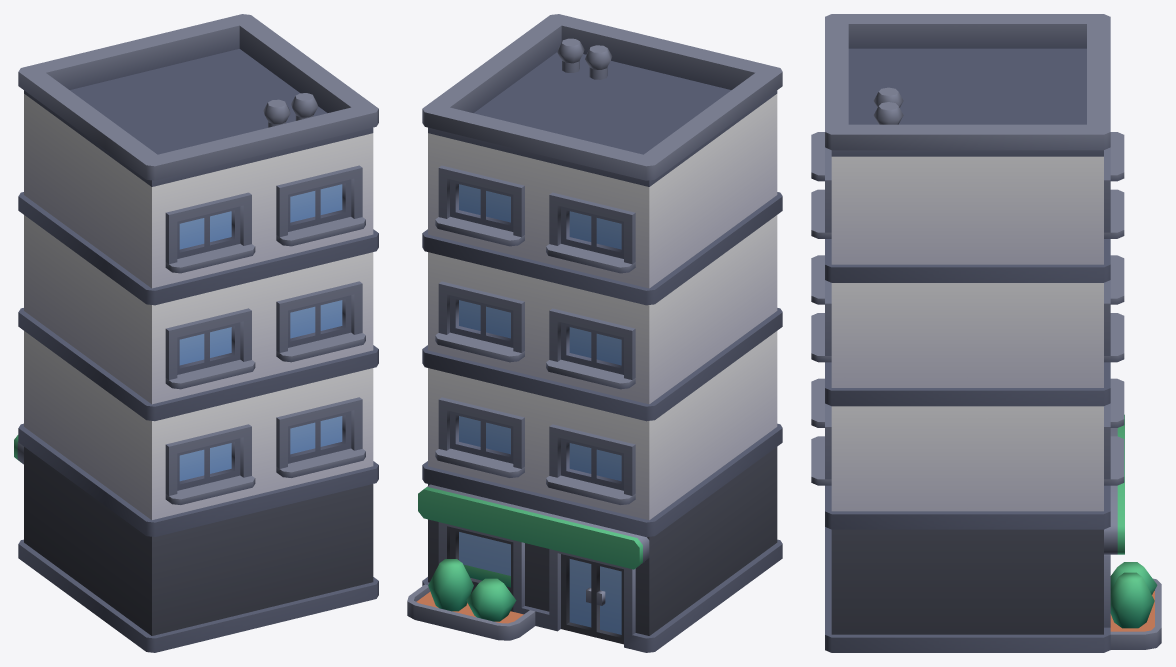
File: city_5.fbx
3 views of the same model, side by side, from view 1: azimuth 30°, elevation 25°; view 2: azimuth 150°, elevation 25°; view 3: azimuth 270°, elevation 25° (orthographic). The views are drawn at different scales.
Parts seen in each view (by area): view 1: city_5; view 2: city_5; view 3: city_5.
Boxes of the visible parts, <box> form: city_5: <box>14,14,378,652</box>; city_5: <box>407,14,782,652</box>; city_5: <box>811,14,1161,652</box>.
Bounding box in the file's own units: 0.84 × 1.69 × 1.03.
Materials: 1 (1 with a texture image).
